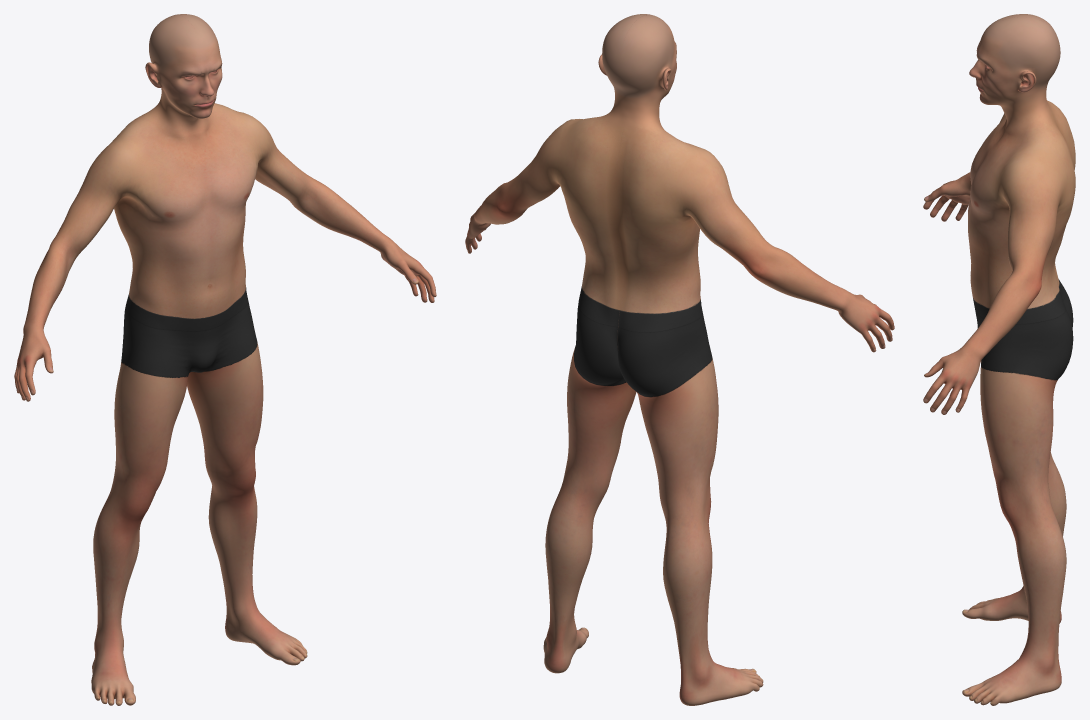
The model's file is ModeloPiel.glb.
3 renders of one model, left to right at view 1: azimuth 30°, elevation 25°; view 2: azimuth 150°, elevation 25°; view 3: azimuth 270°, elevation 25°, orthographic. The views are drawn at different scales.
Visible parts, largest first — view 1: HG_Body; view 2: HG_Body; view 3: HG_Body.
Part boxes in pixels (x1,y1,x2,y2): HG_Body: (14, 14, 436, 705); HG_Body: (465, 14, 894, 705); HG_Body: (923, 14, 1075, 705).
Size of the model in its own units: 1.16 by 1.75 by 0.3776.
Materials: 1 (1 with a texture image).
